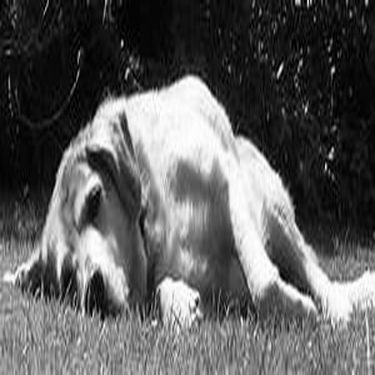dog: (2, 65, 371, 332)
